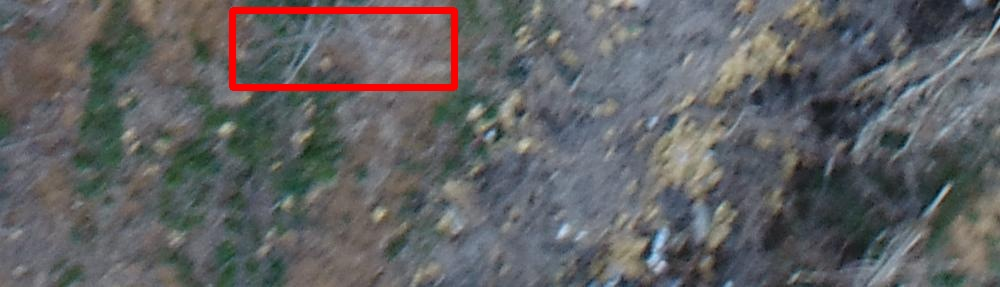apple: (232, 10, 454, 87)
